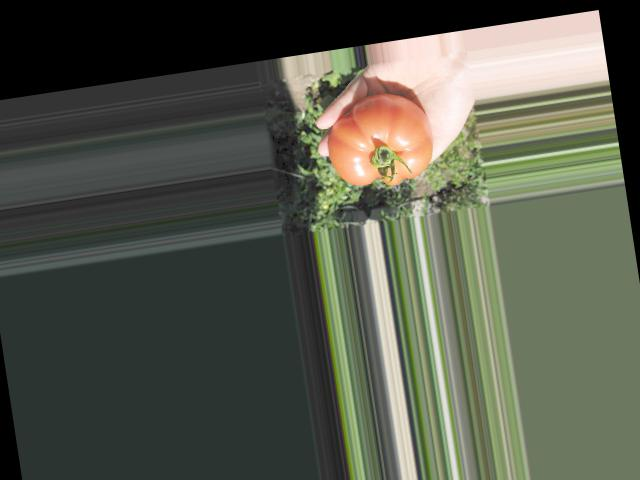tomato: (320, 88, 437, 193)
